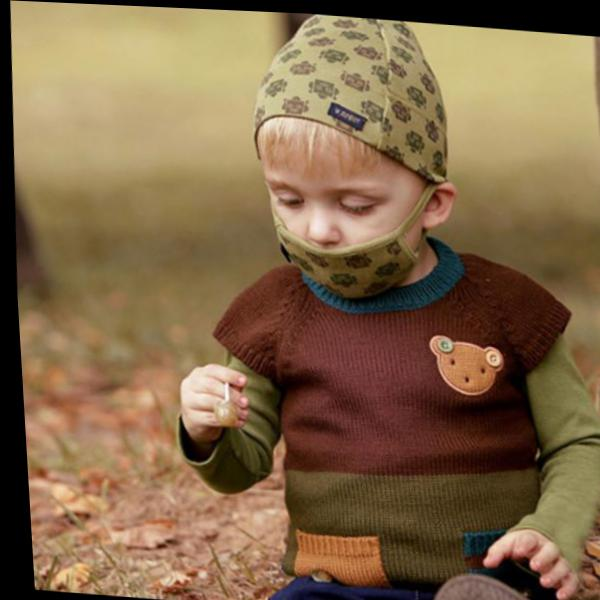WRONG: (266, 160, 411, 294)
